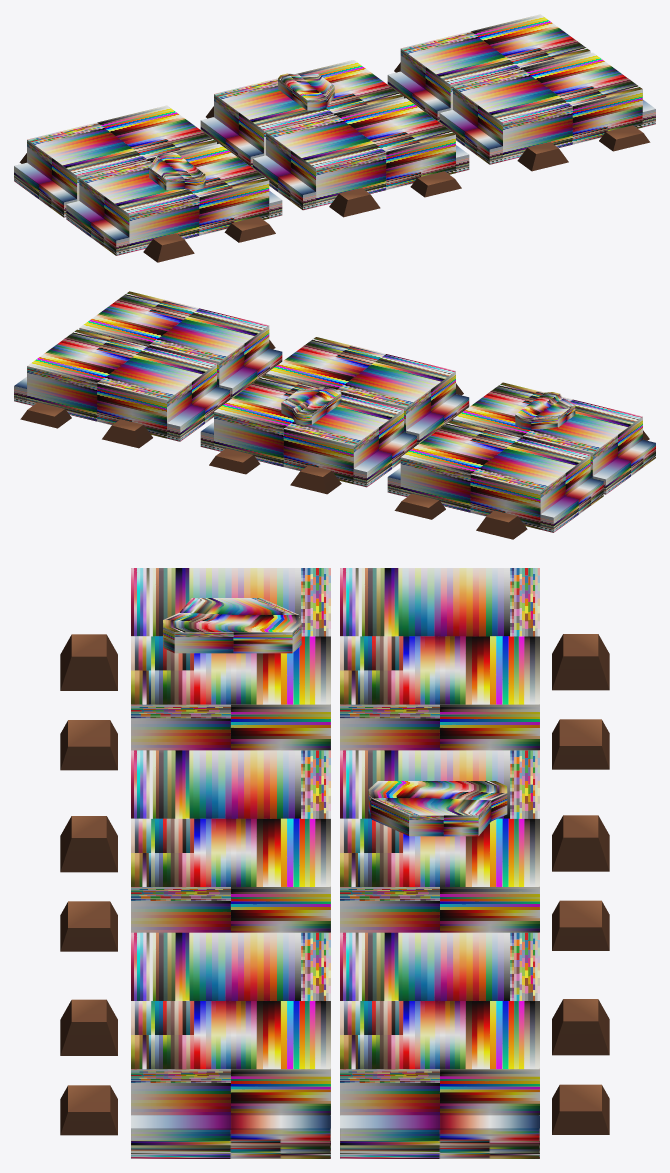
Rendered from CR_caf_Food_001_Collider.FBX.
3 renders of one model, top to bottom at view 1: azimuth 30°, elevation 25°; view 2: azimuth 150°, elevation 25°; view 3: azimuth 270°, elevation 25°, orthographic. The views are drawn at different scales.
Visible parts, largest first — view 1: CR_caf_Food_001_Collider; view 2: CR_caf_Food_001_Collider; view 3: CR_caf_Food_001_Collider.
Part boxes in pixels (x1=…): CR_caf_Food_001_Collider: x1=14, y1=14, x2=655, y2=262; CR_caf_Food_001_Collider: x1=14, y1=291, x2=655, y2=539; CR_caf_Food_001_Collider: x1=60, y1=568, x2=609, y2=1158.
Size of the model in its own units: 287 by 24.89 by 127.
